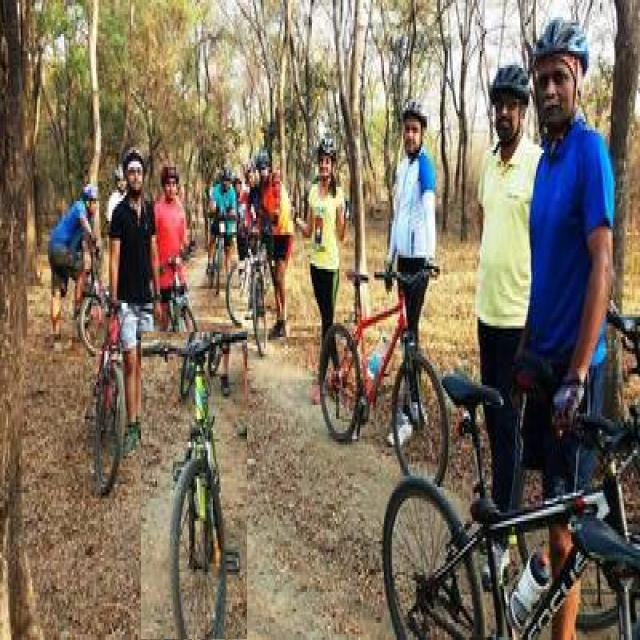bicycle: (142, 332, 247, 639), (320, 271, 449, 483)
